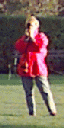person: (9, 13, 54, 118)
